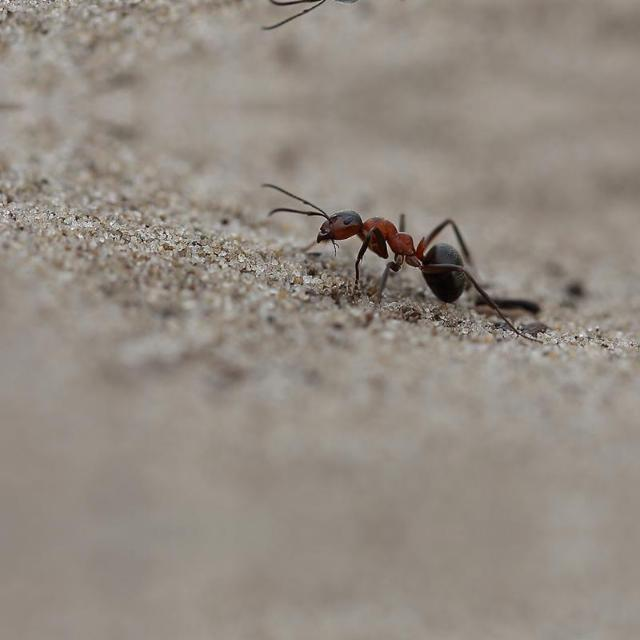Formica: (309, 186, 489, 310), (309, 0, 489, 26)
